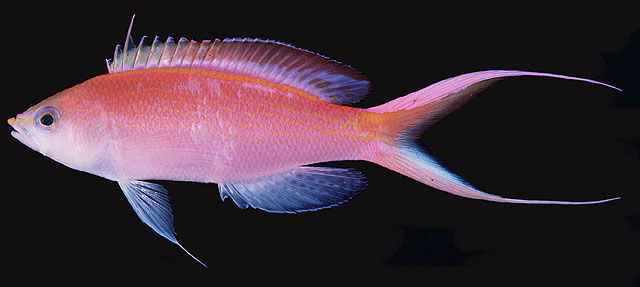fish: (8, 14, 622, 267)
